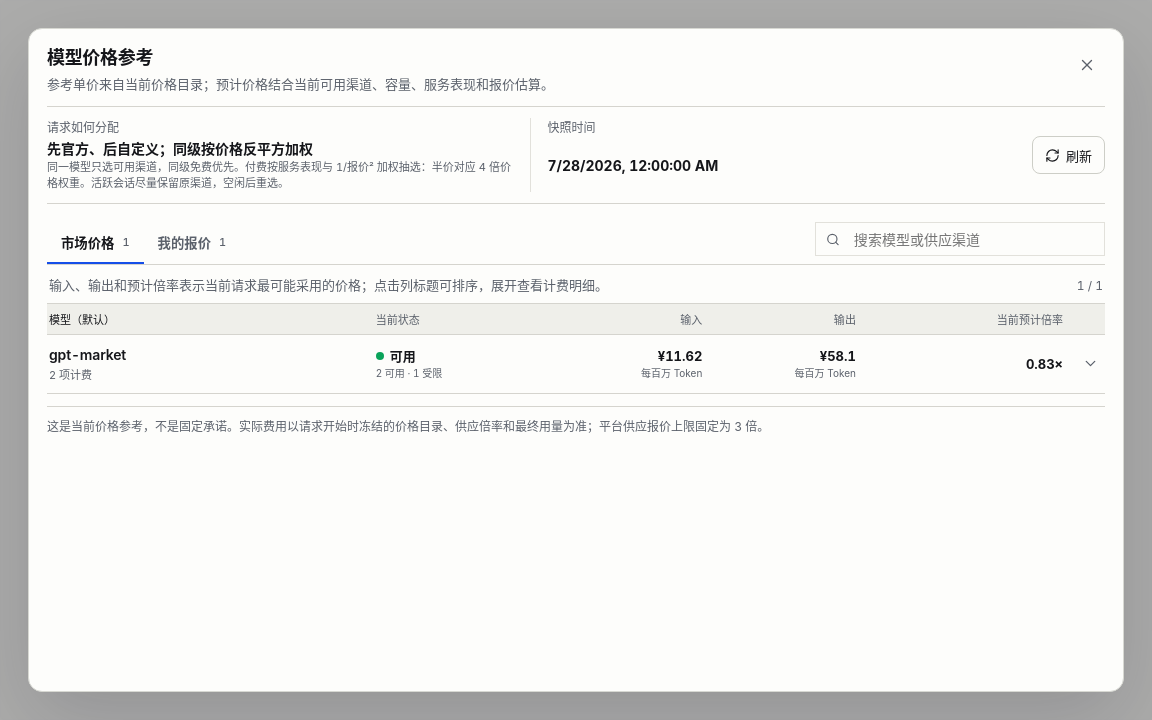
Scenario: MarketPricesModal › keeps catalog and channel rows compact until details are requested
The image size is (1152, 720).
Expected: the heading "gpt-market" is shown, [49, 346, 126, 363]
Expected: the label with class "market-search" is shown, [815, 222, 1105, 256]
Click the button with class "market-expand-button": (1091, 364) [1075, 348, 1107, 380]
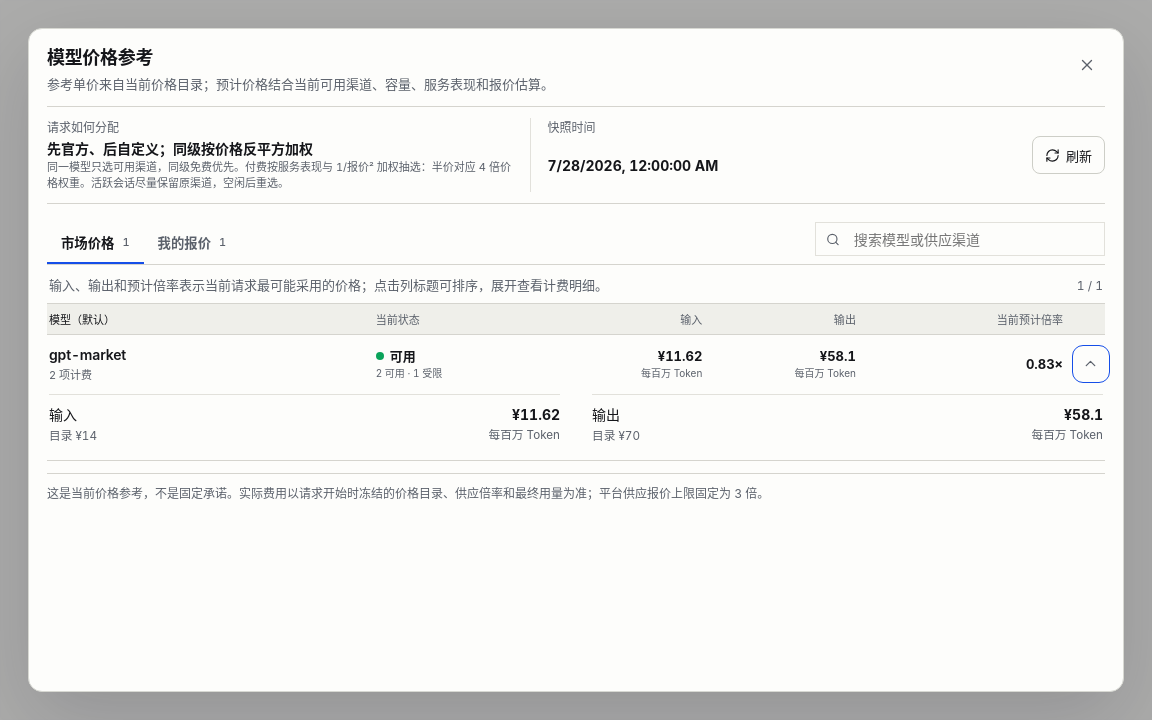
Now the element with class "market-component-list" is shown, box [49, 393, 1103, 452]
Click the tab with test id "market-offers-tab": (192, 243) [144, 222, 240, 264]
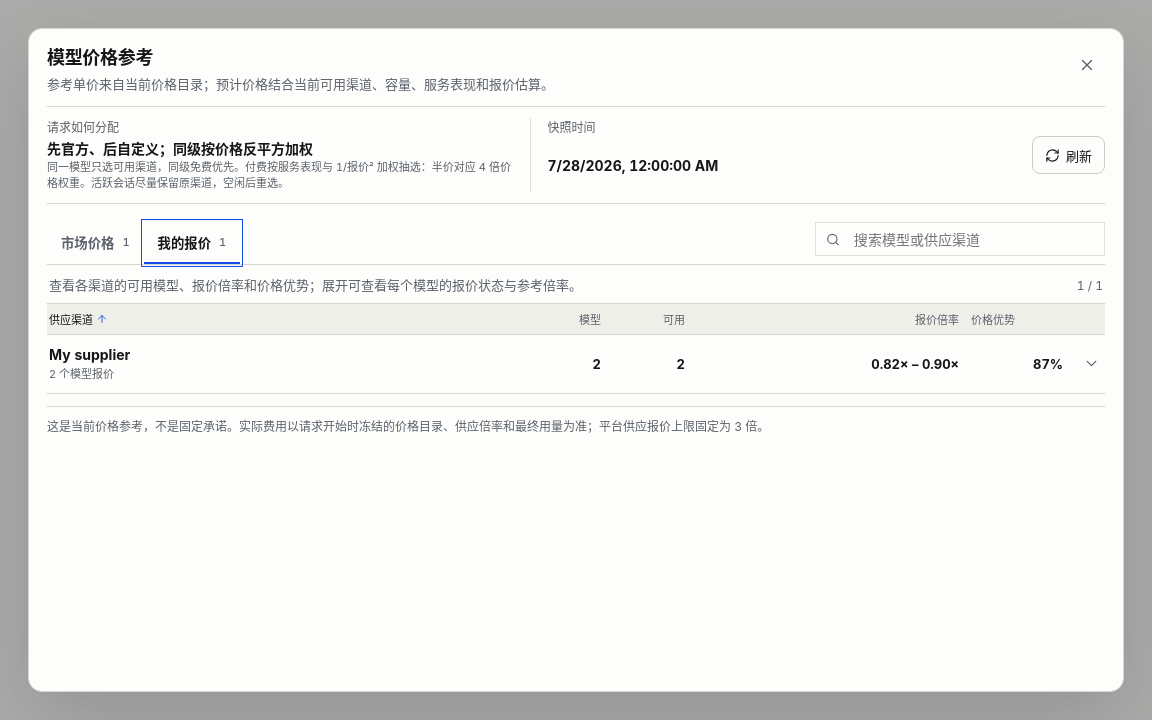
Expected: the button "刷新" is enabled, [1032, 136, 1105, 174]
Now the text "My supplier" is shown, box [49, 346, 130, 364]
Now the element with class "market-offer-group-heading" is shown
Click the element with class "market-offer-group-heading": (90, 355) [47, 335, 1105, 393]
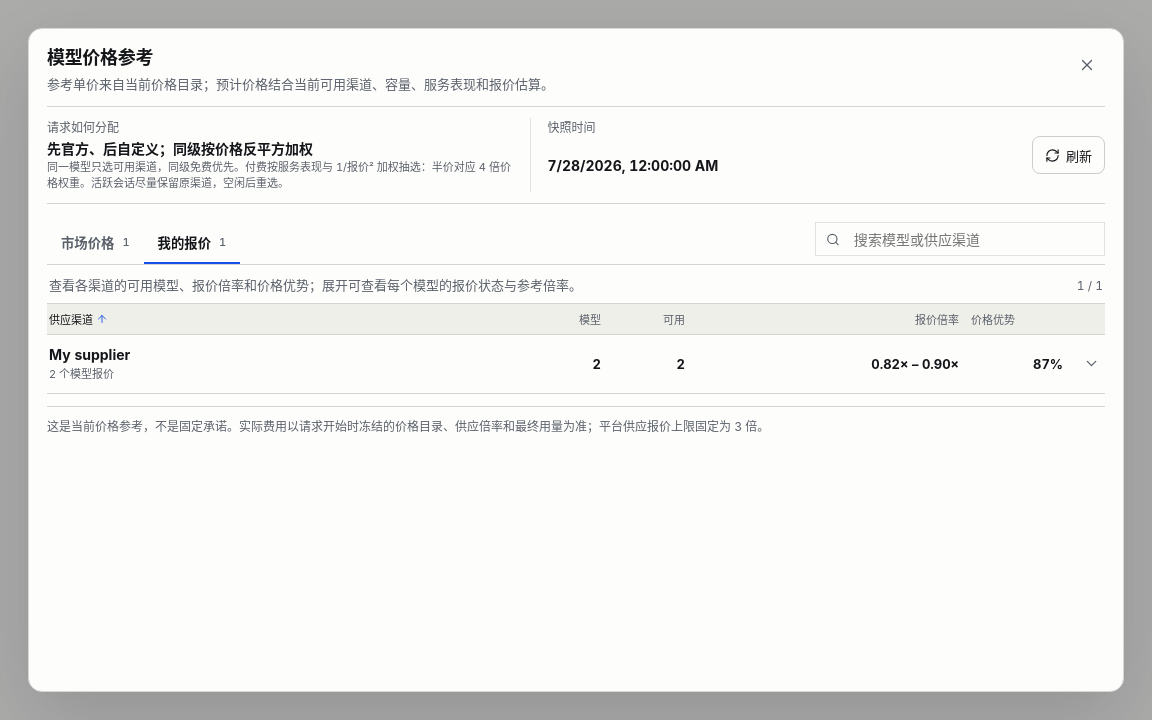
Click the button with class "market-expand-button": (1091, 364) [1075, 348, 1107, 380]
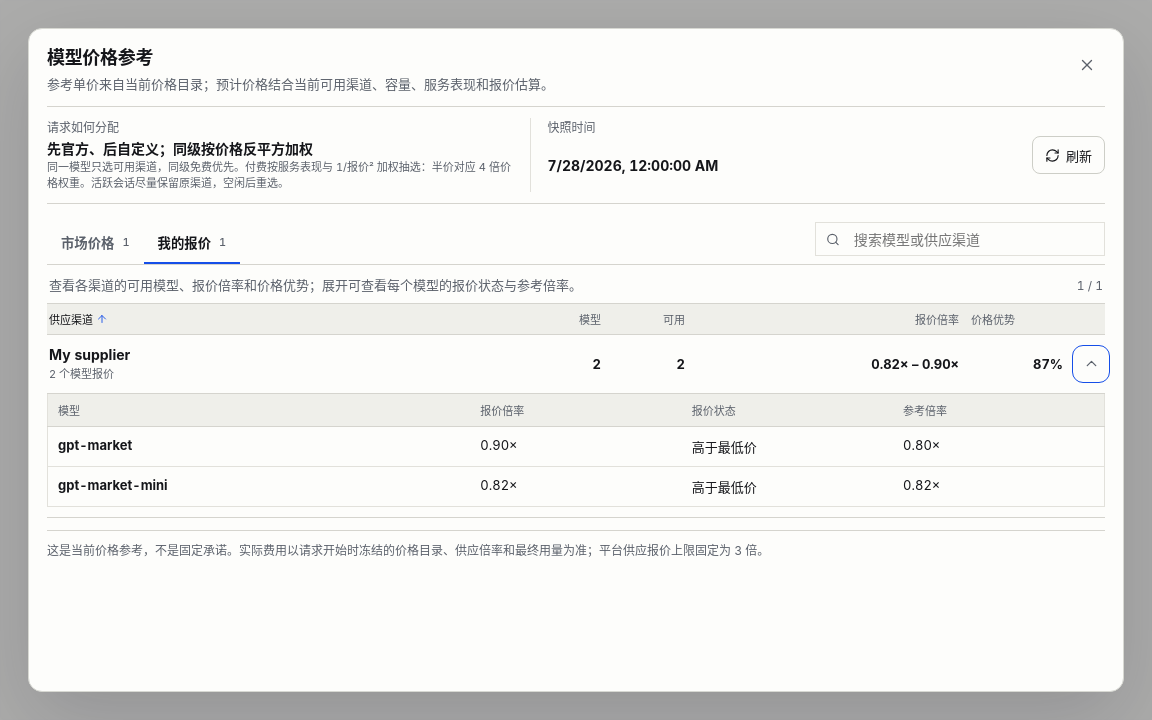
Now the table is shown, box [47, 393, 1105, 507]
Now the text "gpt-market-mini" is shown, box [58, 477, 168, 493]
